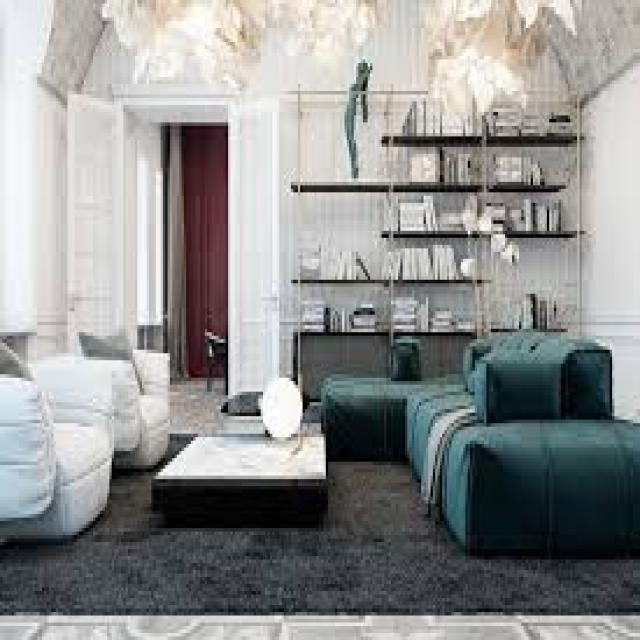Chair: (1, 338, 115, 530), (79, 319, 179, 462)
Sofa: (316, 328, 640, 584)
Table: (154, 393, 334, 536)
